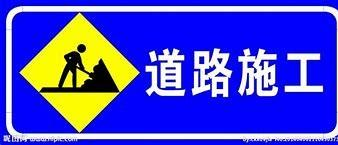sign: (4, 5, 335, 142)
